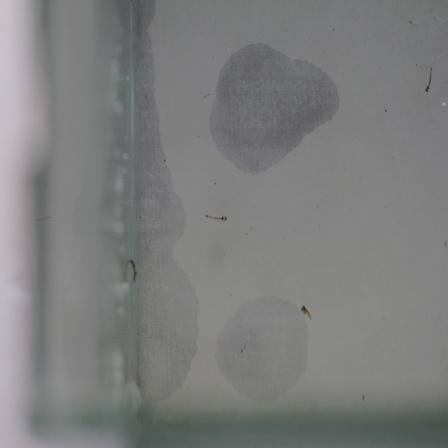Jentik-Nyamuk: (202, 206, 233, 228), (126, 253, 143, 288), (423, 61, 439, 97), (294, 302, 318, 325)
